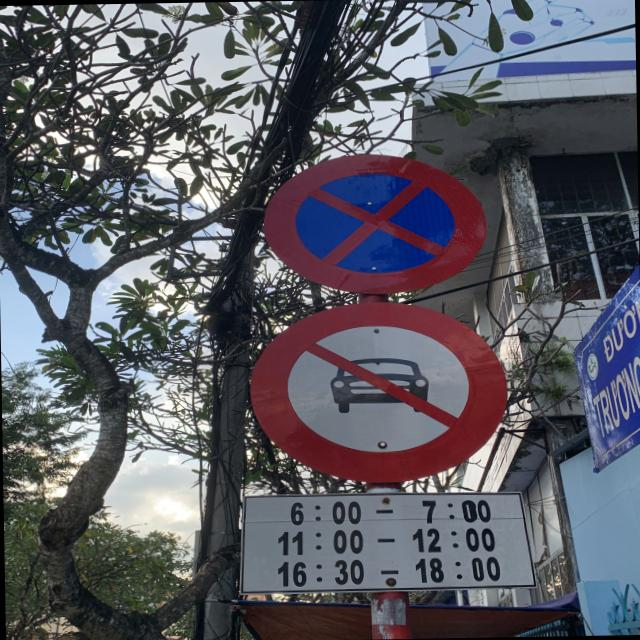Cam_Dung_Va_Dau_Xe: (260, 151, 492, 296)
Cam_O_To: (246, 300, 511, 482)
